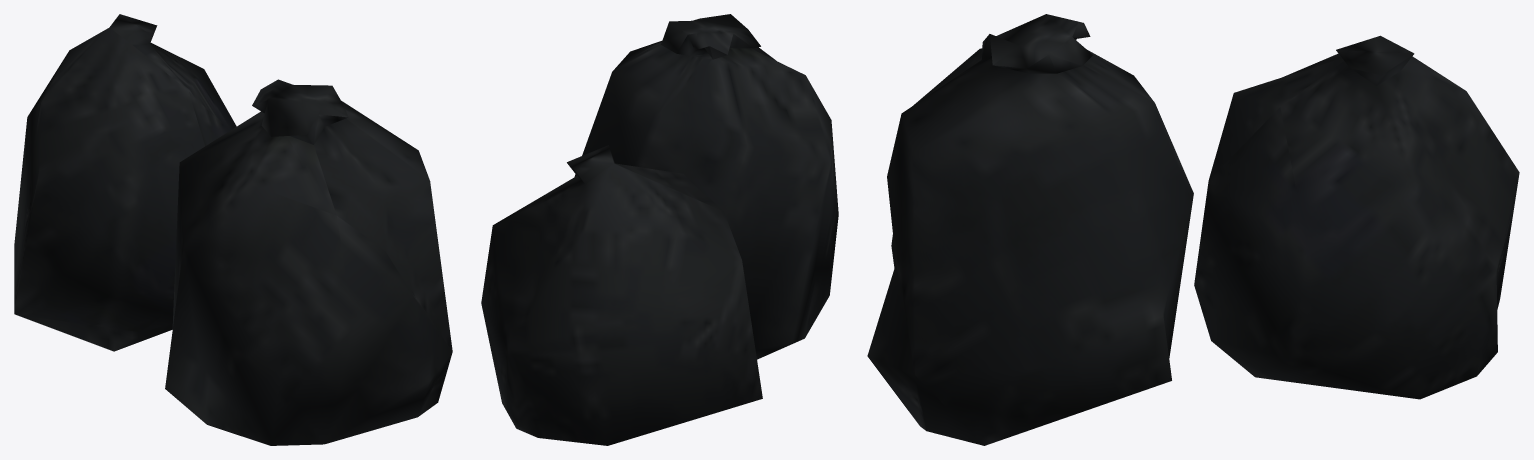
The model's file is trash-bags.lod1.glb.
The picture shows the model from 3 angles, left to right: view 1: azimuth 30°, elevation 25°; view 2: azimuth 150°, elevation 25°; view 3: azimuth 270°, elevation 25°; orthographic projection. The views are drawn at different scales.
Visible parts, largest first — view 1: bag1_garbagebags_0; view 2: bag1_garbagebags_0; view 3: bag1_garbagebags_0.
Boxes of the visible parts, x1=… form: bag1_garbagebags_0: x1=14, y1=14, x2=452, y2=445; bag1_garbagebags_0: x1=481, y1=14, x2=838, y2=445; bag1_garbagebags_0: x1=867, y1=14, x2=1519, y2=445.
Size of the model in its own units: 1.1 by 1.12 by 1.8.
Materials: 1 (1 with a texture image).
